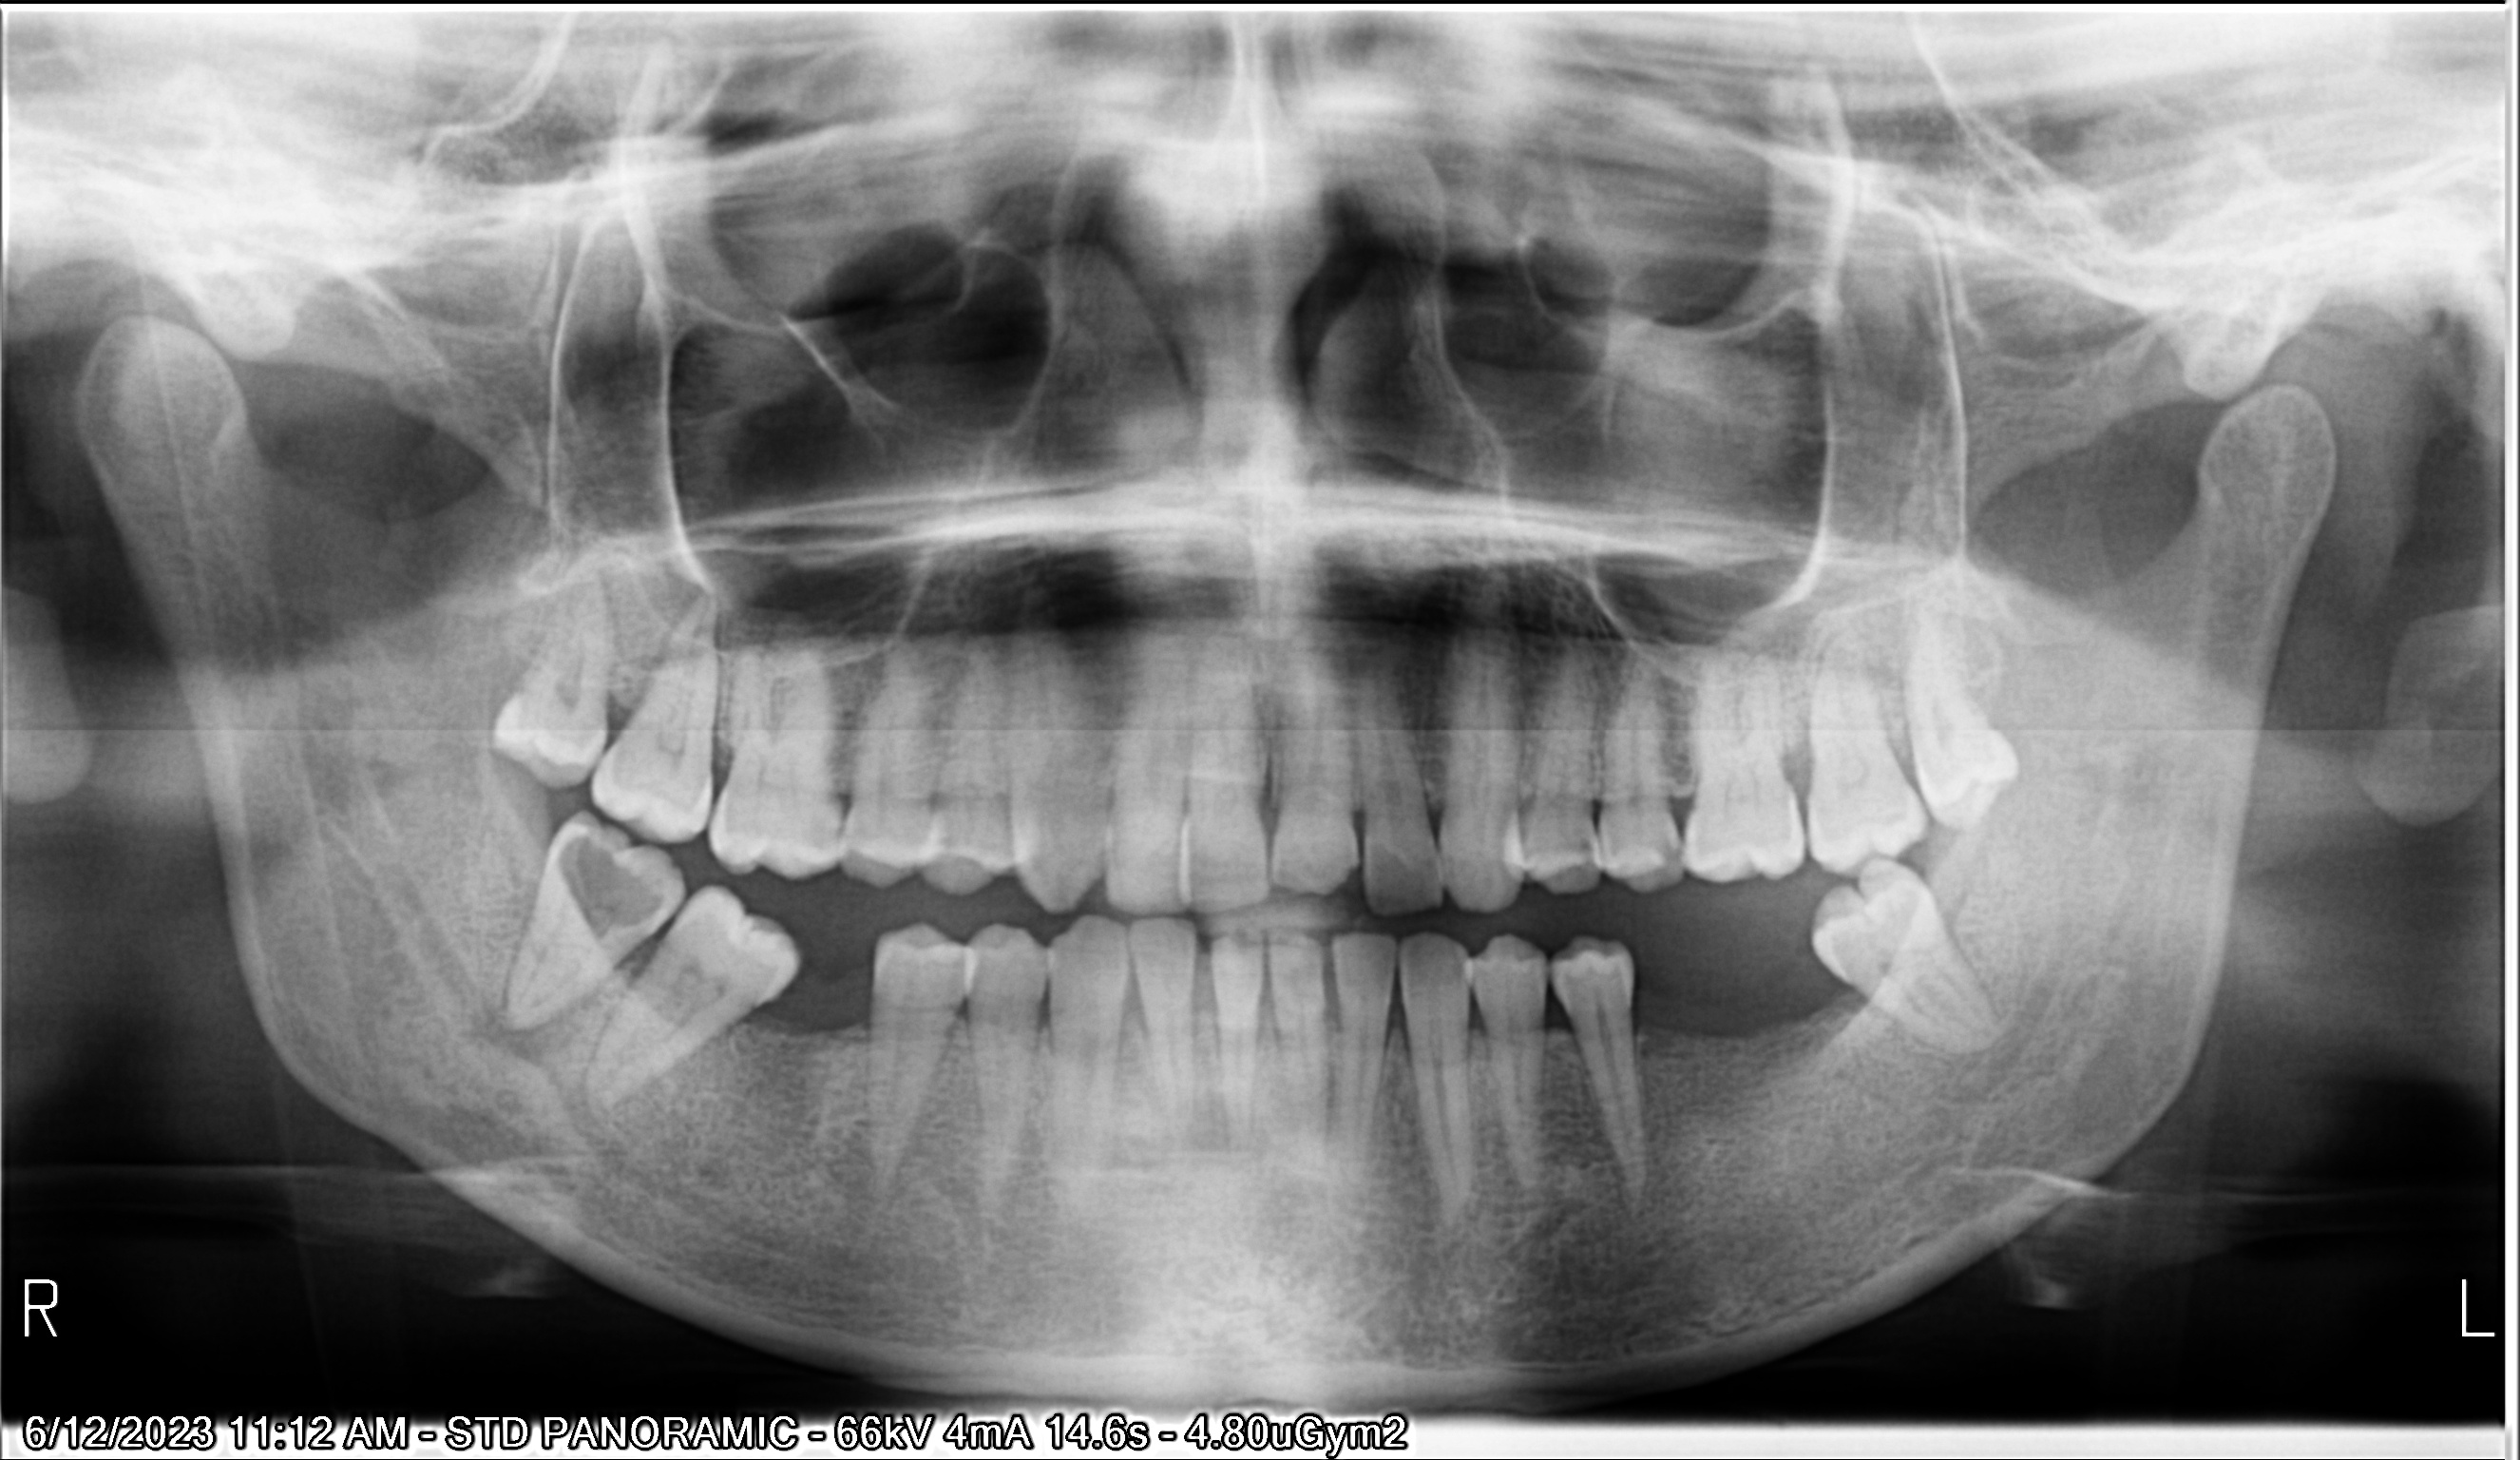API: (465, 975, 563, 1065)
BON: (625, 928, 663, 989), (1780, 746, 1811, 806), (1891, 735, 1910, 777), (714, 730, 733, 772), (606, 693, 623, 737)
CAR: (557, 820, 653, 940), (806, 805, 849, 860), (1853, 886, 1888, 939), (1657, 841, 1692, 878), (1570, 838, 1601, 878), (505, 669, 535, 706)
